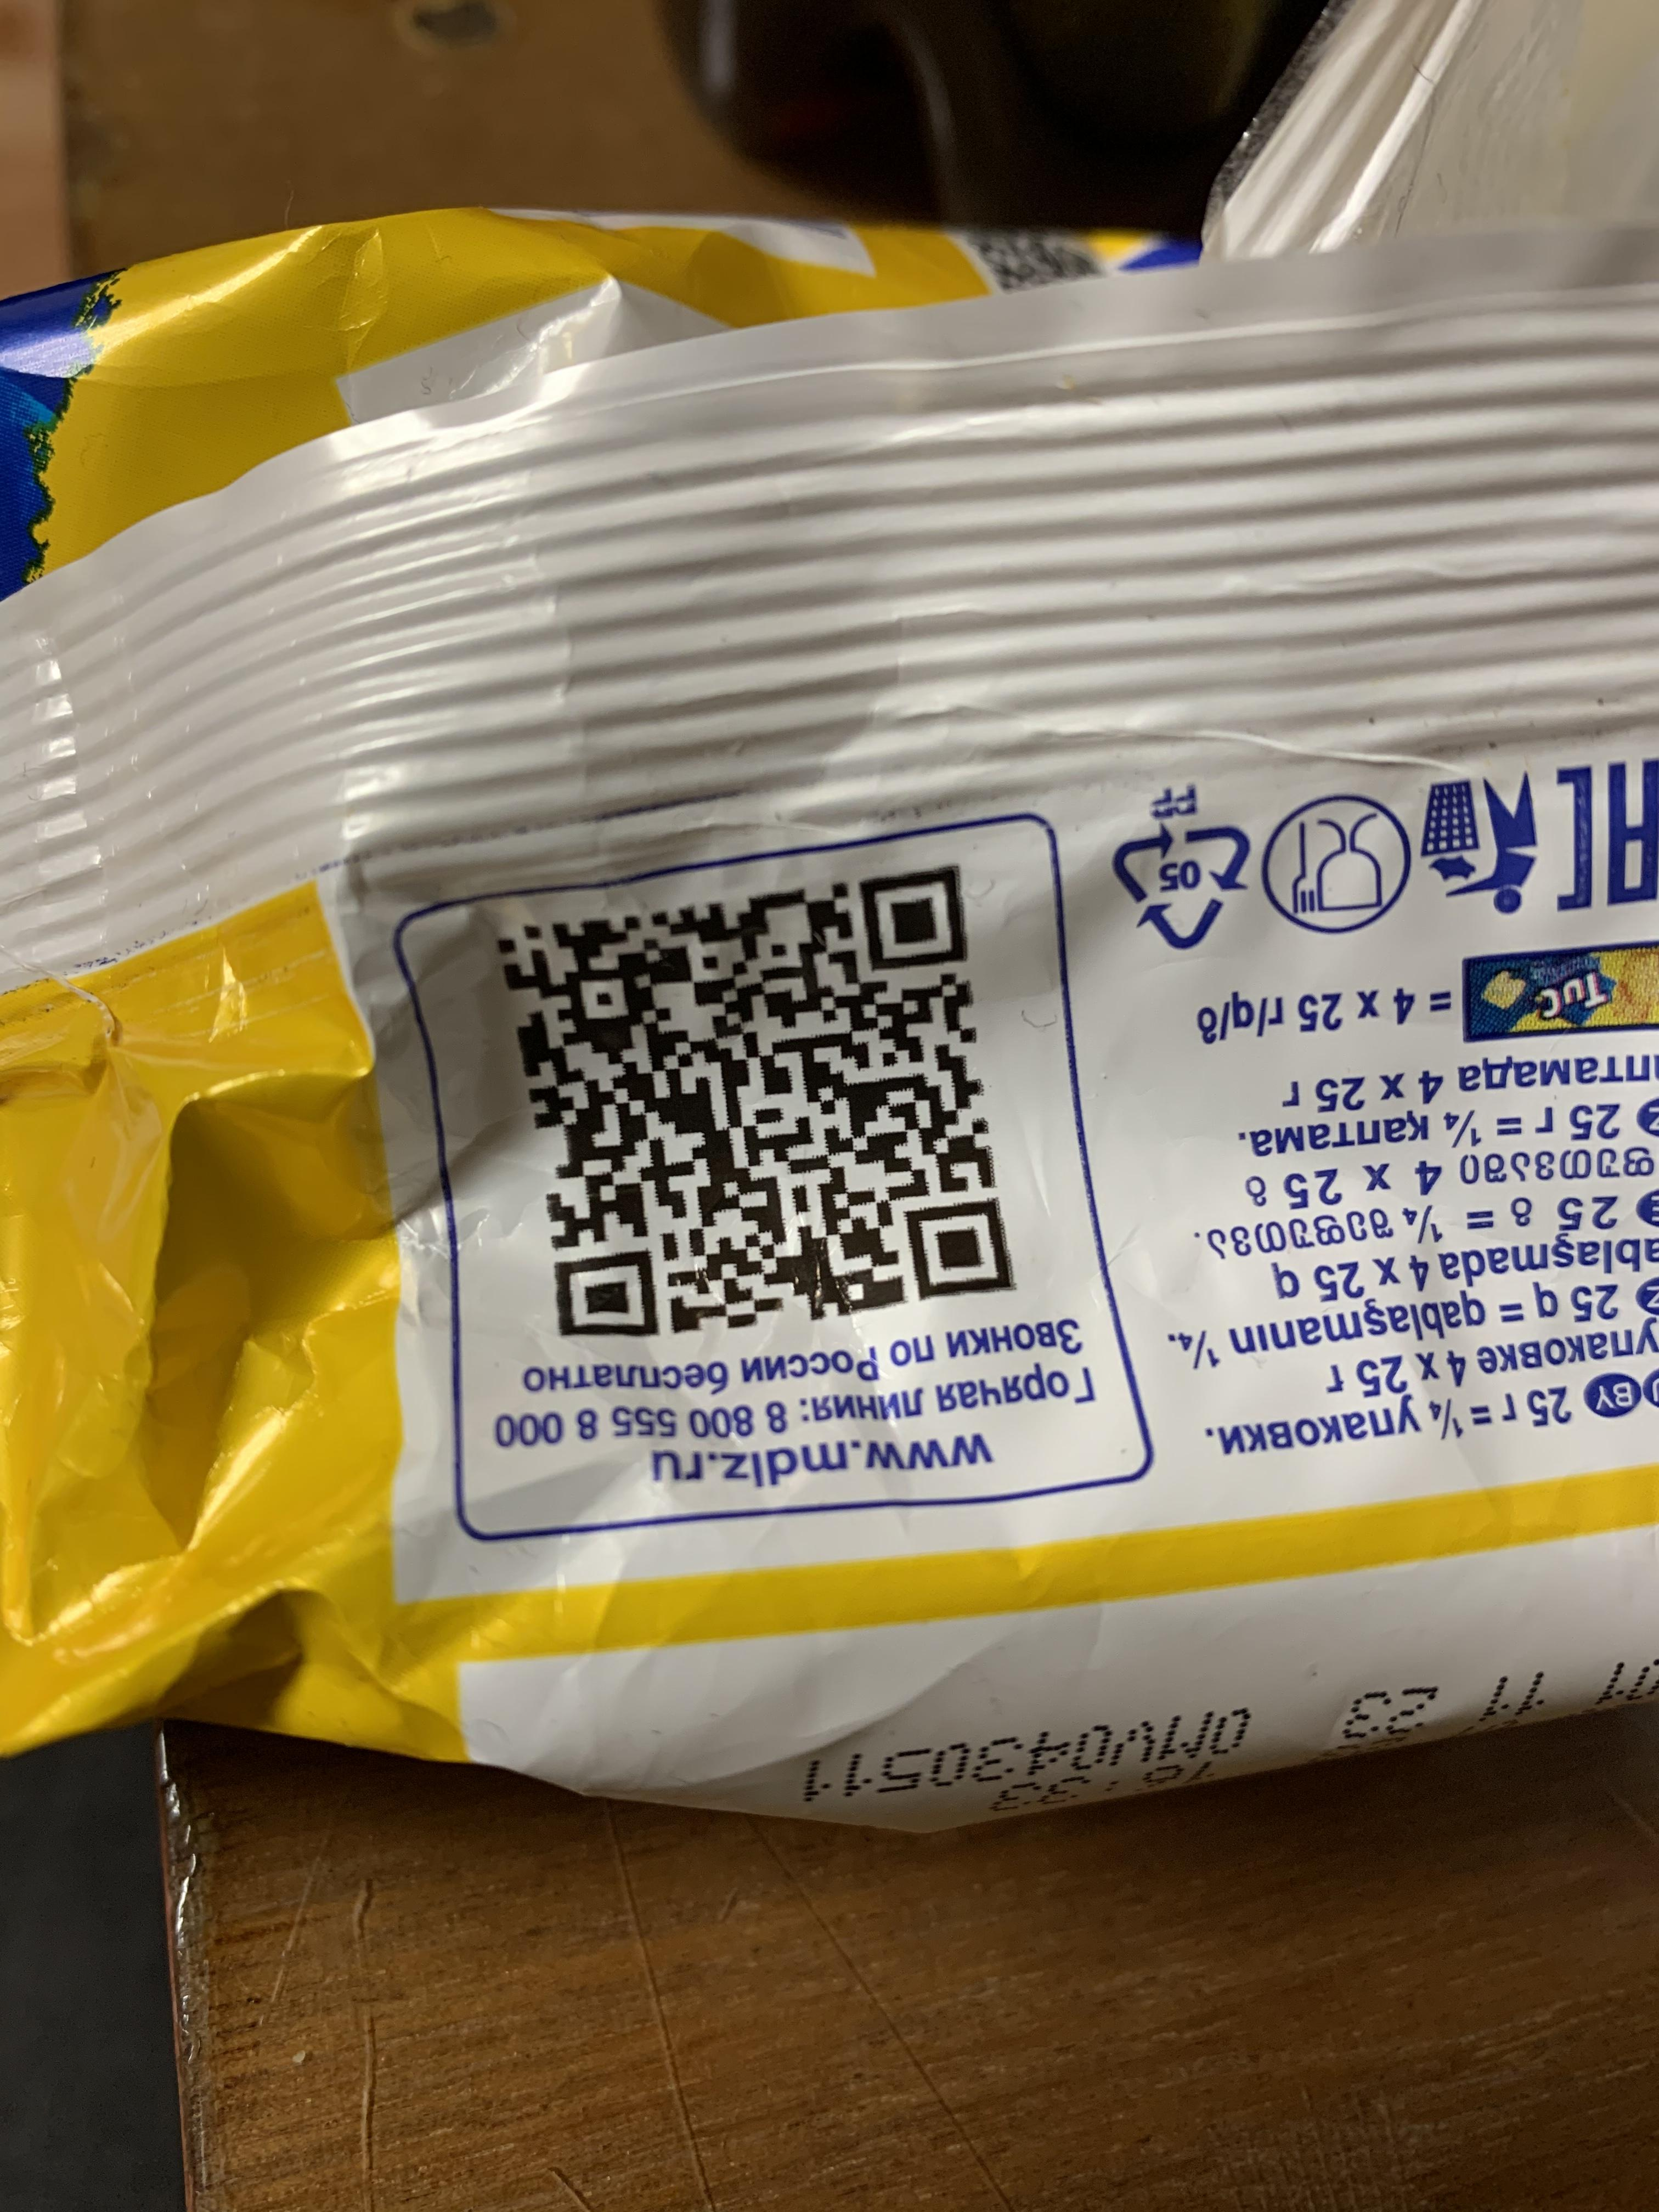qrcode: (491, 862, 1018, 1341)
